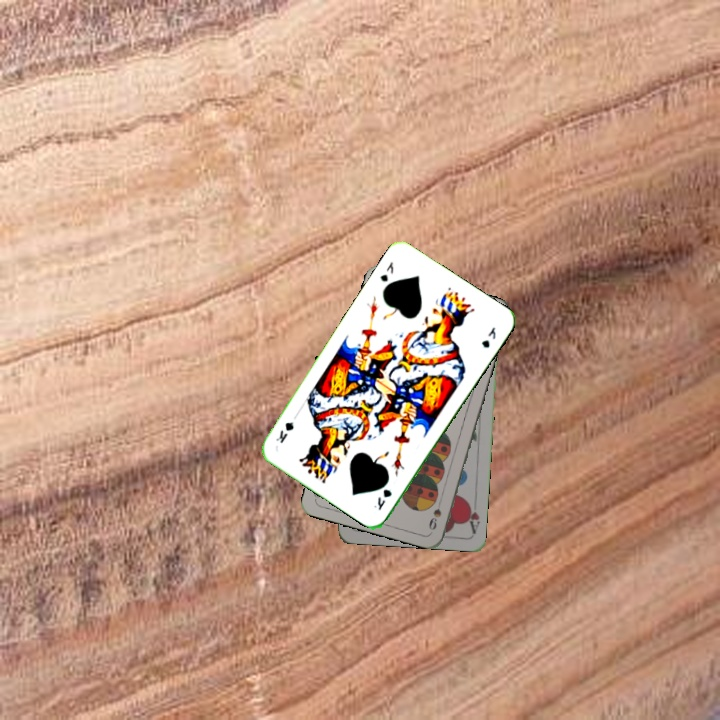GK: (370, 485, 394, 513), (376, 257, 396, 284)
HA: (463, 496, 482, 536)
S9: (425, 493, 445, 533)
